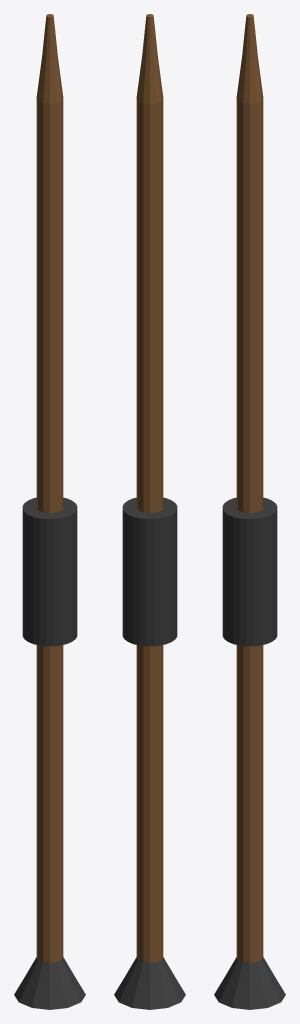
Rendered from Blow Gun.dae.
3 renders of one model, left to right at view 1: azimuth 30°, elevation 25°; view 2: azimuth 210°, elevation 25°; view 3: azimuth 330°, elevation 25°, orthographic.
Visible parts, largest first — view 1: Cylinder; view 2: Cylinder; view 3: Cylinder.
Boxes of the visible parts, x1,y1,x2,y2 form: Cylinder: (14,14,85,1009); Cylinder: (114,14,185,1009); Cylinder: (214,14,285,1009).
Size of the model in its own units: 0.2666 by 0.2666 by 4.
